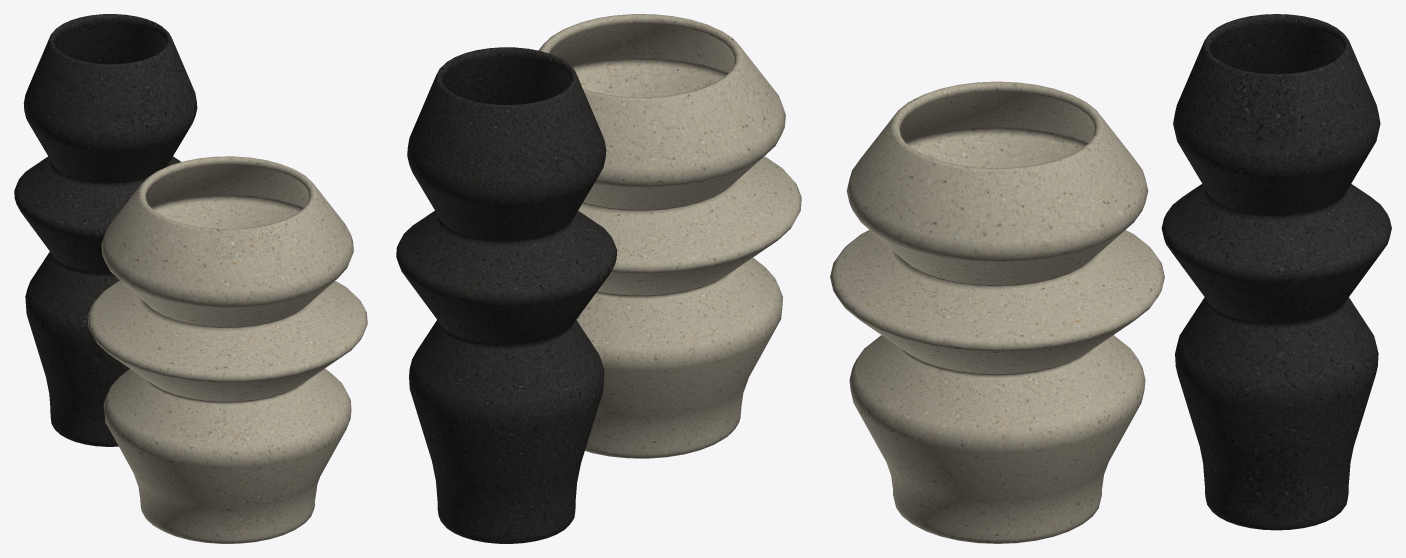
3 renders of one model, left to right at view 1: azimuth 30°, elevation 25°; view 2: azimuth 150°, elevation 25°; view 3: azimuth 270°, elevation 25°, orthographic. The views are drawn at different scales.
Parts seen in each view (by area): view 1: SM_Twinvase; view 2: SM_Twinvase; view 3: SM_Twinvase.
Boxes of the visible parts, <box> form: SM_Twinvase: <box>14,14,367,543</box>; SM_Twinvase: <box>396,14,801,543</box>; SM_Twinvase: <box>830,14,1391,543</box>.
Size of the model in its own units: 0.1607 by 0.242 by 0.2695.
Materials: 1 (1 with a texture image).
